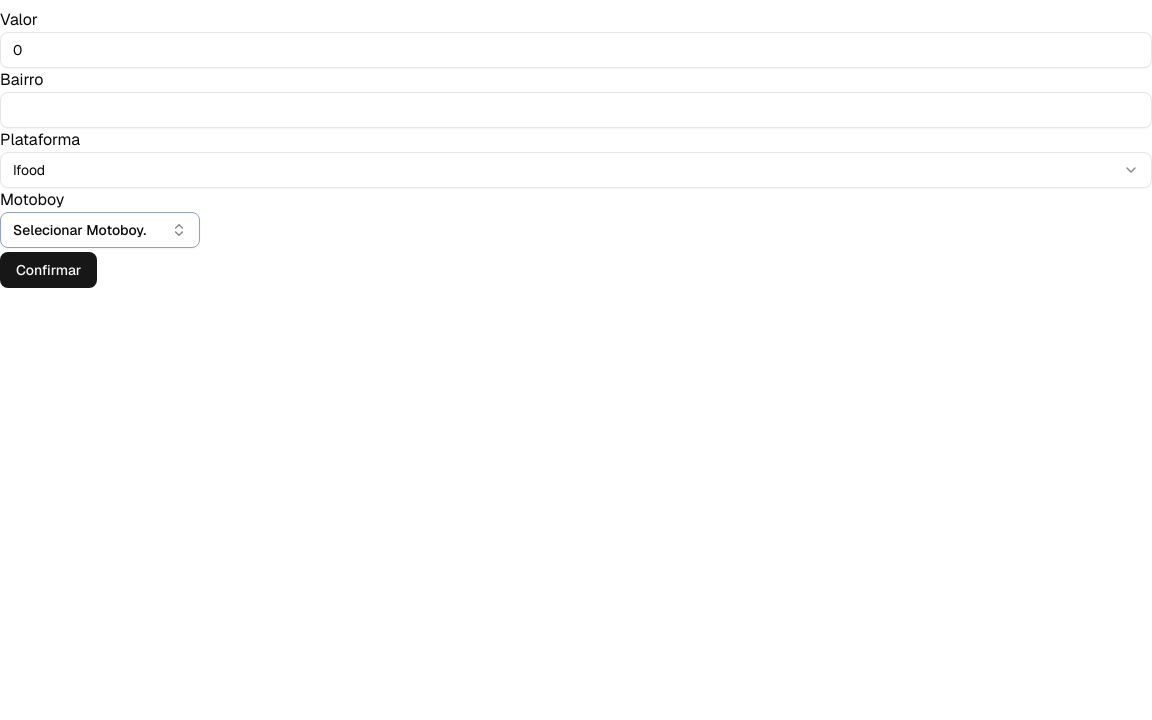
Test: delivery form fields › If no motoboy is found it should show addMotoboy button
Click the dropdown with test id "moboboyCombobox". click: [100, 230]
box: [0,212,200,248]
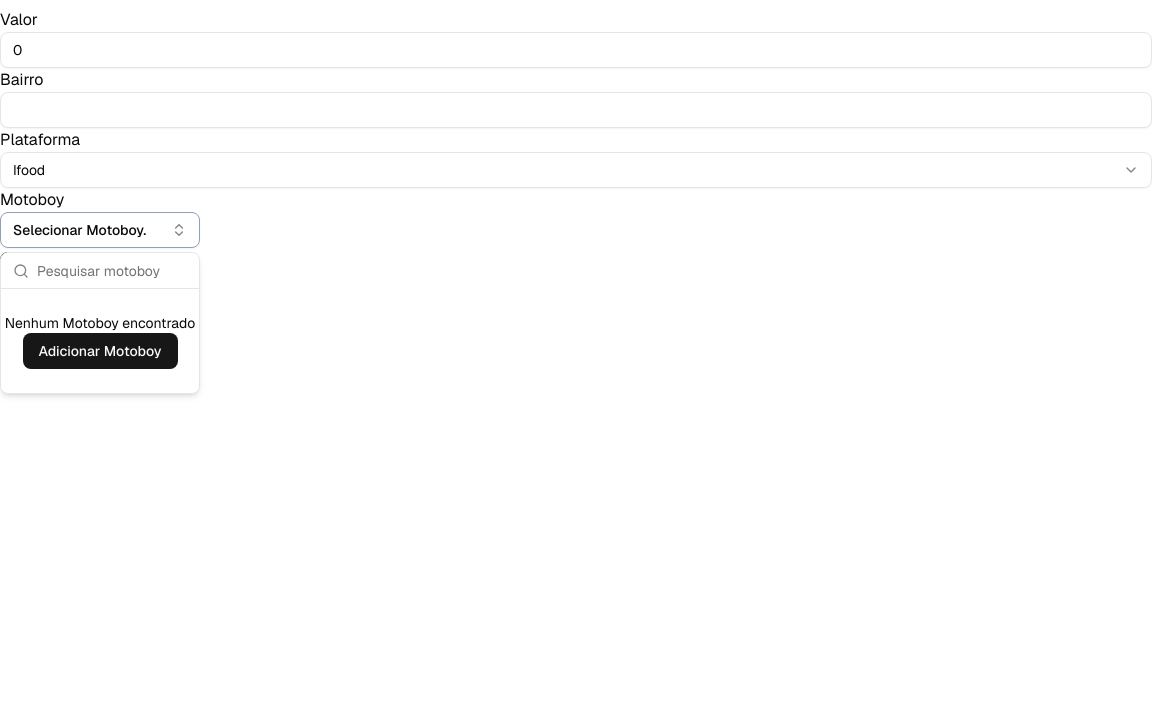
Now the text "Nenhum Motoboy encontrado" is shown, box [1,313,199,333]
Now the button with test id "addMotoboyButton" is shown, box [22,333,178,369]
